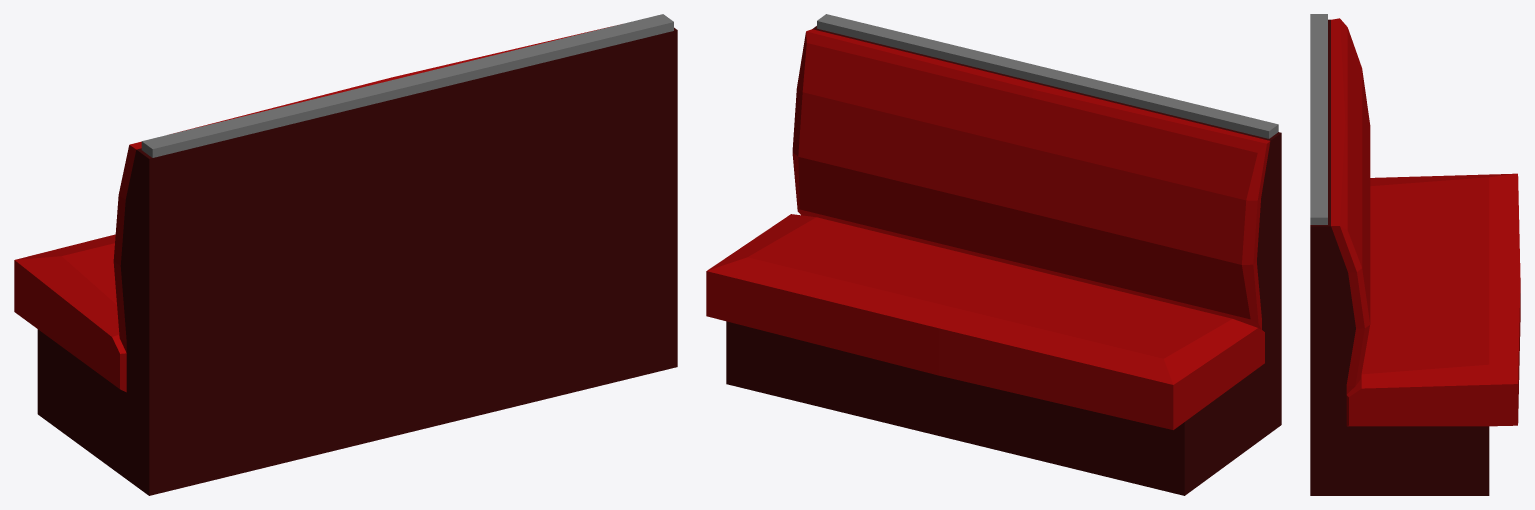
File: BoothSingle.fbx
3 views of the same model, side by side, from view 1: azimuth 30°, elevation 25°; view 2: azimuth 150°, elevation 25°; view 3: azimuth 270°, elevation 25° (orthographic). The views are drawn at different scales.
Visible parts, largest first — view 1: Booth Single.001; view 2: Booth Single.001; view 3: Booth Single.001.
Part boxes in pixels (<box>): Booth Single.001: <box>14,14,677,495</box>; Booth Single.001: <box>706,14,1281,495</box>; Booth Single.001: <box>1310,14,1520,495</box>.
Bounding box in the file's own units: 252 × 155 × 106.
